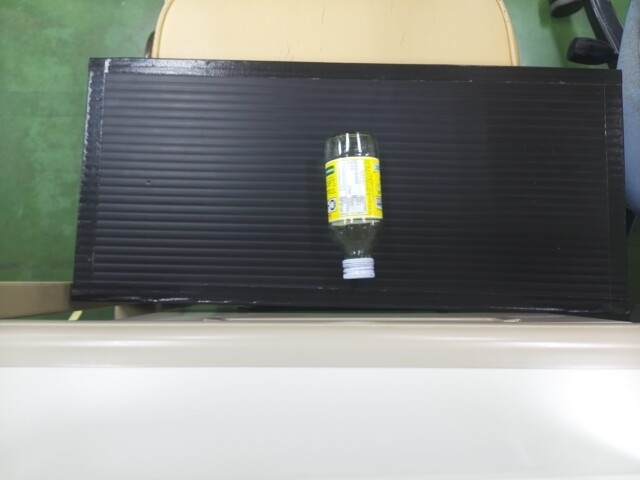glass_bottle: (325, 129, 380, 281)
